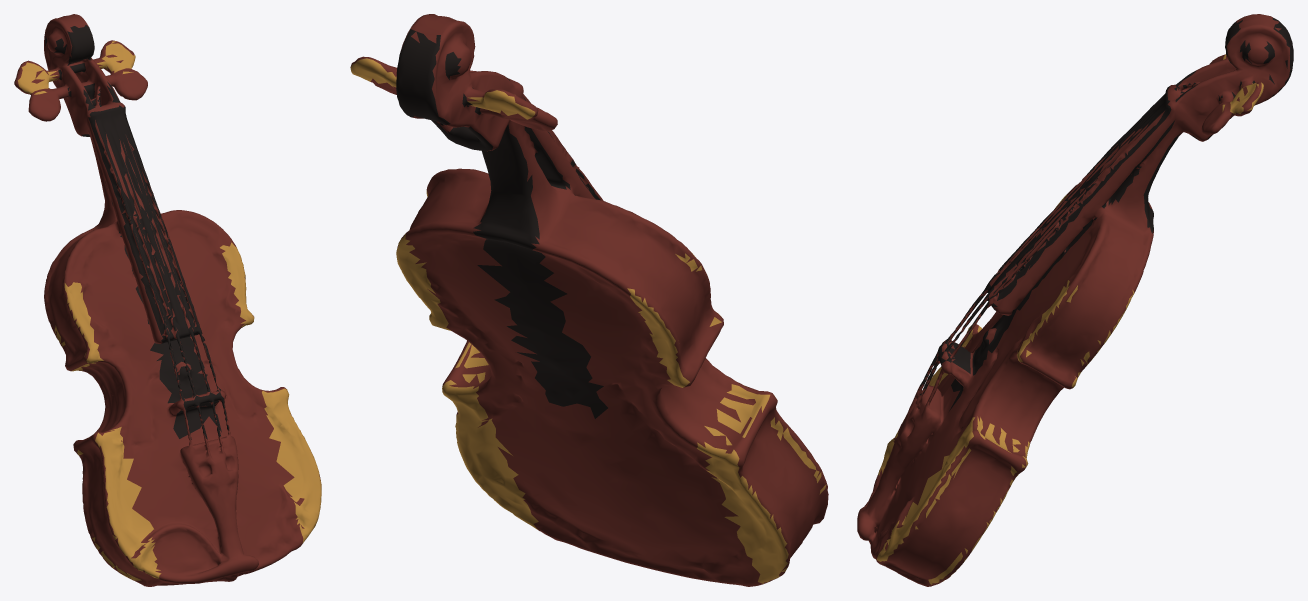
File: violino.glb
3 views of the same model, side by side, from view 1: azimuth 30°, elevation 25°; view 2: azimuth 150°, elevation 25°; view 3: azimuth 270°, elevation 25° (orthographic). The views are drawn at different scales.
Parts seen in each view (by area): view 1: tmp0iwu_yl_.ply; view 2: tmp0iwu_yl_.ply; view 3: tmp0iwu_yl_.ply.
Boxes of the visible parts, x1,y1,x2,y2 form: tmp0iwu_yl_.ply: (14,14,321,586); tmp0iwu_yl_.ply: (350,14,828,586); tmp0iwu_yl_.ply: (857,14,1293,586).
Size of the model in its own units: 0.9425 by 1.96 by 1.44.
